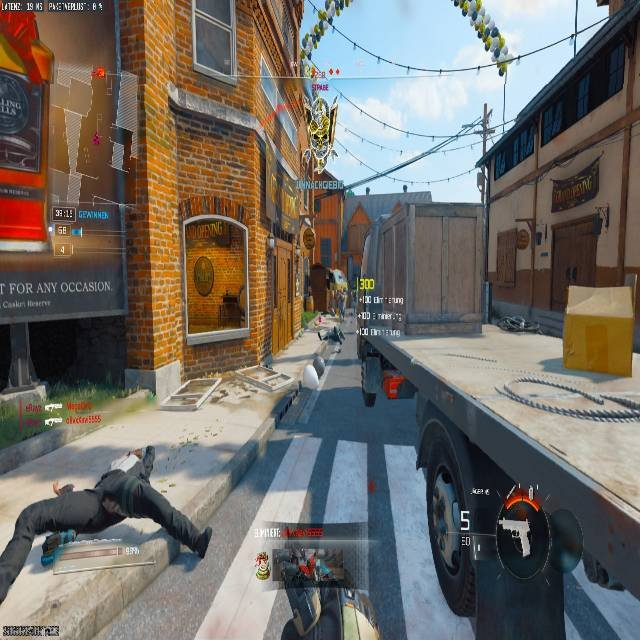player: (266, 543, 346, 640), (451, 0, 521, 77)
